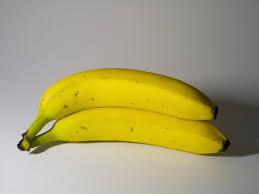banana: (17, 66, 231, 163)
